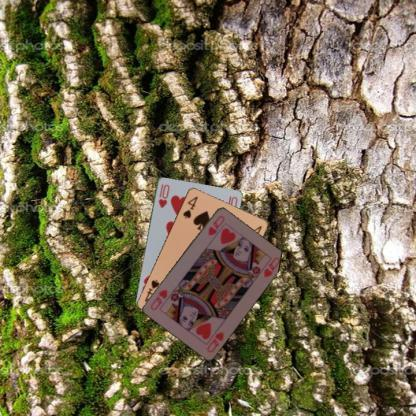10h: (156, 180, 170, 210)
4s: (180, 194, 199, 220)
Qh: (204, 328, 226, 353), (205, 212, 226, 237)
